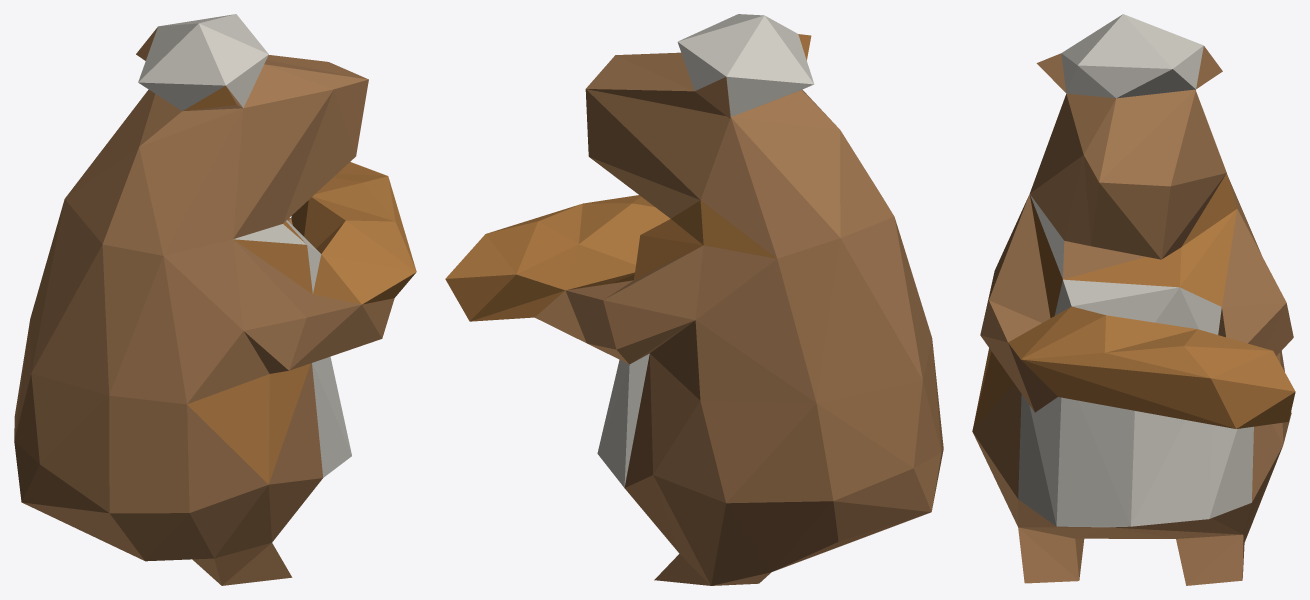
3 renders of one model, left to right at view 1: azimuth 30°, elevation 25°; view 2: azimuth 150°, elevation 25°; view 3: azimuth 270°, elevation 25°, orthographic. The views are drawn at different scales.
Visible parts, largest first — view 1: lion-200.001; view 2: lion-200.001; view 3: lion-200.001.
Part boxes in pixels (x1=…): lion-200.001: x1=14, y1=14, x2=416, y2=585; lion-200.001: x1=445, y1=14, x2=943, y2=585; lion-200.001: x1=972, y1=14, x2=1295, y2=585.
Bounding box in the file's own units: 0.8396 × 1.04 × 0.5548.
